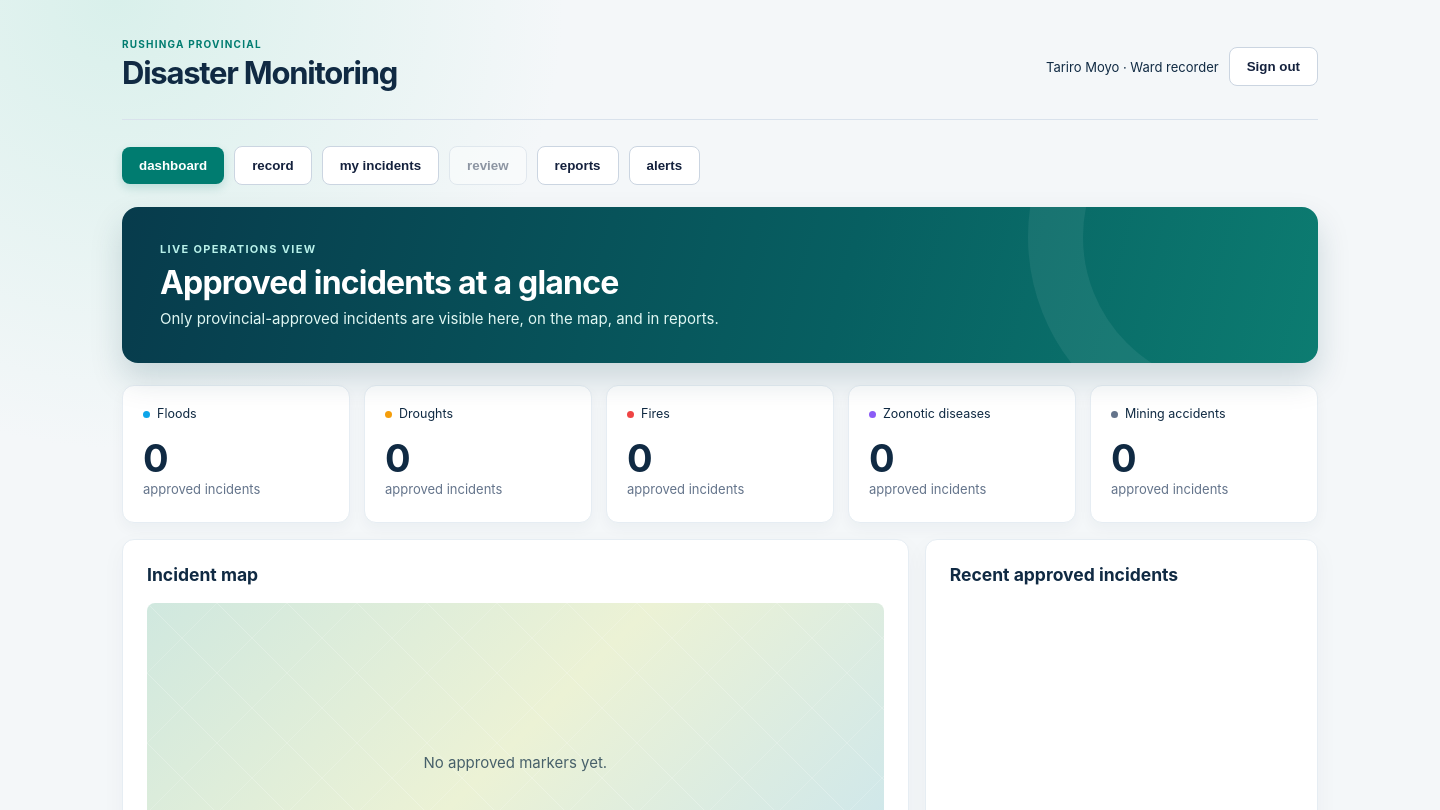
Test: Incident Submission and Editing Workflows › allows recorder to delete a pending incident after confirmation
Click the button "my incidents". click: click(380, 166)
box: 322,146 -> 439,185
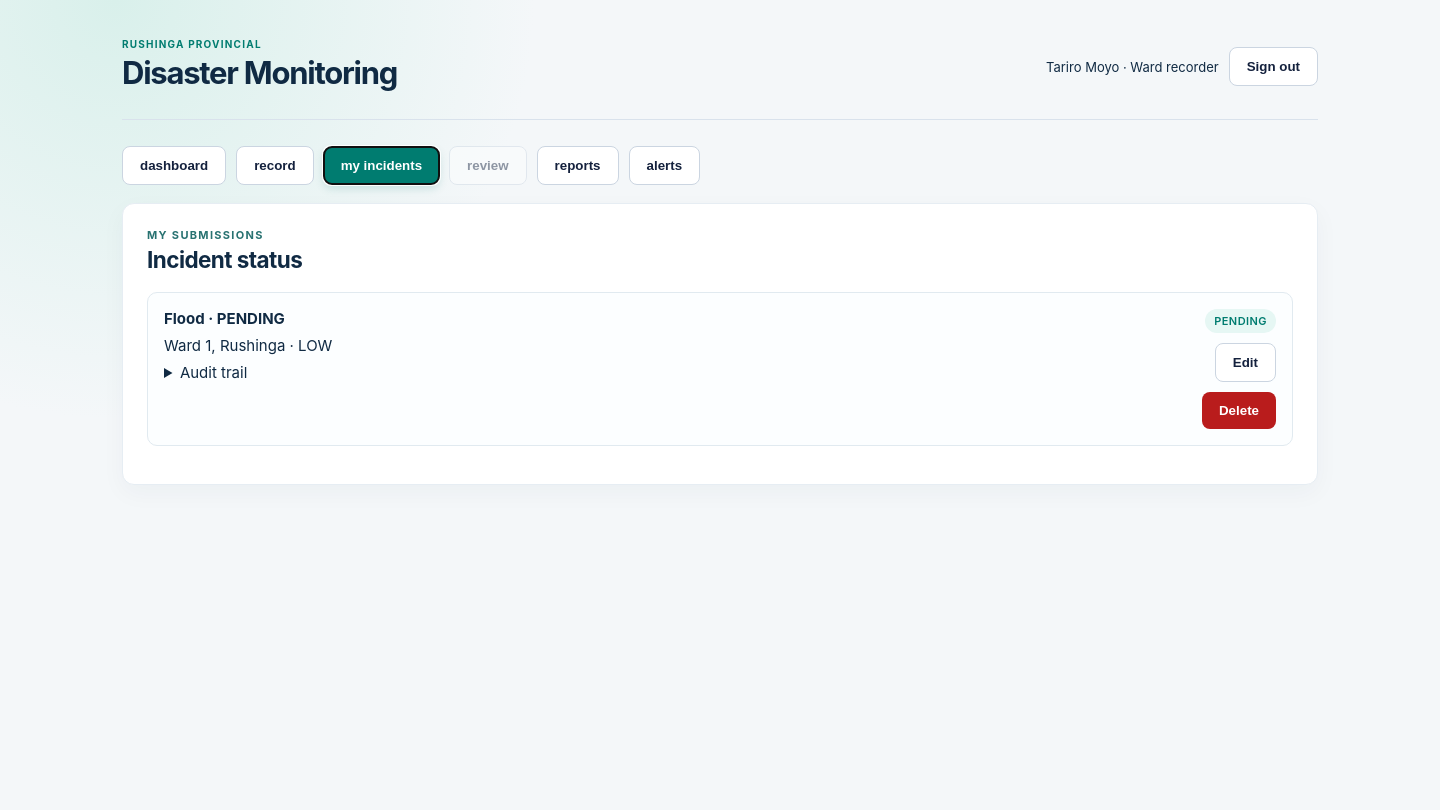
Expected: the text "Flood · PENDING" is shown, 164,309 -> 285,328
Click the button "Delete". click: click(1239, 410)
box: 1202,392 -> 1276,429
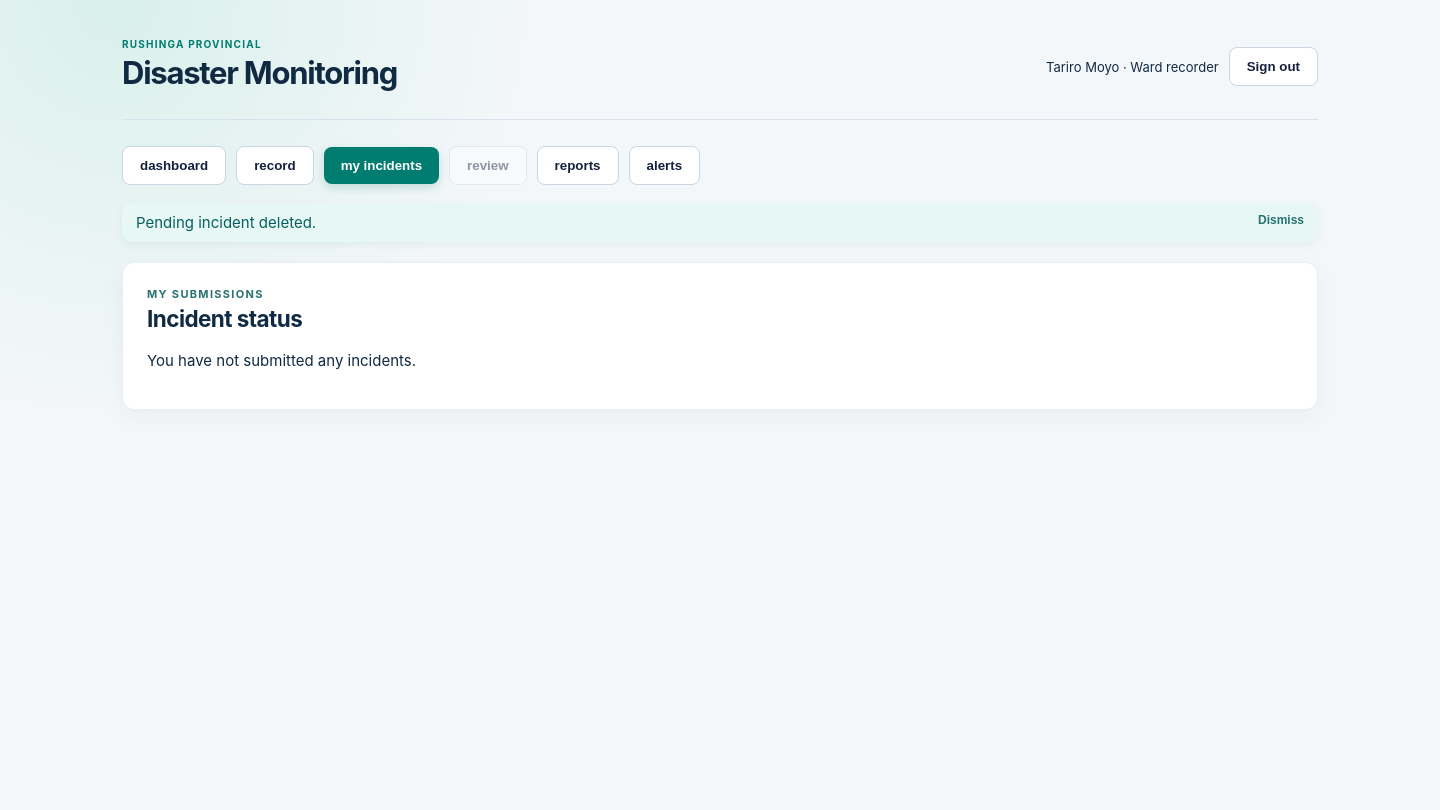
Expected: the text "Pending incident deleted. Dismiss" is shown, 122,203 -> 1318,242
Expected: the text "Flood · PENDING" is gone
